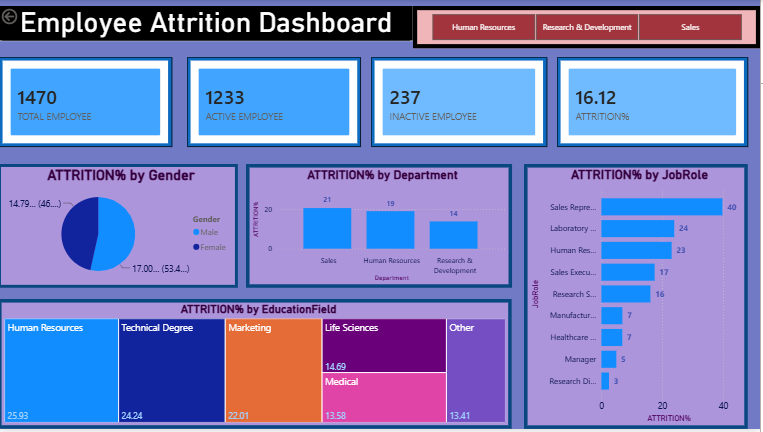

What the dashboard file says about the page in this screenshot:
{"tool":"powerbi","page":{"name":"ATTRITION","canvas":[1280,720],"ordinal":1},"visuals":[{"type":"textbox","title":"Employee Attrition Dashboard","box":[1.7,10.1,695.4,58.8],"z":0},{"type":"cardVisual","fields":{"Data":["WA_Fn-UseC_-HR-Employee-Attrition.TOTAL EMPLOYEE"]},"box":[1.7,95.7,290.6,151.2],"z":1000},{"type":"cardVisual","fields":{"Data":["WA_Fn-UseC_-HR-Employee-Attrition.ACTIVE EMPLOYEE"]},"box":[317.5,95.7,292.3,151.2],"z":2000},{"type":"cardVisual","fields":{"Data":["WA_Fn-UseC_-HR-Employee-Attrition.INACTIVE EMPLOYEE"]},"box":[626.6,95.7,295.6,151.2],"z":3000},{"type":"cardVisual","fields":{"Data":["WA_Fn-UseC_-HR-Employee-Attrition.ATTRITION%"]},"box":[939,95.7,320.8,151.2],"z":4000},{"type":"pieChart","fields":{"Category":["WA_Fn-UseC_-HR-Employee-Attrition.Gender"],"Y":["WA_Fn-UseC_-HR-Employee-Attrition.ATTRITION%"]},"box":[0,275.5,403.1,208.3],"z":5000},{"type":"columnChart","fields":{"Category":["WA_Fn-UseC_-HR-Employee-Attrition.Department"],"Y":["WA_Fn-UseC_-HR-Employee-Attrition.ATTRITION%"]},"box":[416.6,275.5,446.8,208.3],"z":6000},{"type":"barChart","fields":{"Y":["WA_Fn-UseC_-HR-Employee-Attrition.ATTRITION%"],"Category":["WA_Fn-UseC_-HR-Employee-Attrition.JobRole"]},"box":[883.6,275.5,376.3,445.1],"z":7000},{"type":"treemap","fields":{"Group":["WA_Fn-UseC_-HR-Employee-Attrition.EducationField"],"Values":["WA_Fn-UseC_-HR-Employee-Attrition.ATTRITION%"]},"box":[0,502.3,863.4,218.4],"z":8000},{"type":"slicer","fields":{"Values":["WA_Fn-UseC_-HR-Employee-Attrition.Department"]},"box":[697.1,10.1,582.9,70.6],"z":9000},{"type":"actionButton","box":[1.7,10.1,35.3,35.3],"z":10000}]}

Visuals, with their boxes in screenshot pixels (x1, y1, x2, y2), scaled from the page's 1280x720 canvas onto the 763x432 screenshot:
"Employee Attrition Dashboard" textbox: <box>1,6,416,41</box>
cardVisual - WA_Fn-UseC_-HR-Employee-Attrition.TOTAL EMPLOYEE: <box>1,57,174,148</box>
cardVisual - WA_Fn-UseC_-HR-Employee-Attrition.ACTIVE EMPLOYEE: <box>189,57,363,148</box>
cardVisual - WA_Fn-UseC_-HR-Employee-Attrition.INACTIVE EMPLOYEE: <box>374,57,550,148</box>
cardVisual - WA_Fn-UseC_-HR-Employee-Attrition.ATTRITION%: <box>560,57,751,148</box>
pieChart - WA_Fn-UseC_-HR-Employee-Attrition.Gender x WA_Fn-UseC_-HR-Employee-Attrition.ATTRITION%: <box>0,165,240,290</box>
columnChart - WA_Fn-UseC_-HR-Employee-Attrition.Department x WA_Fn-UseC_-HR-Employee-Attrition.ATTRITION%: <box>248,165,515,290</box>
barChart - WA_Fn-UseC_-HR-Employee-Attrition.ATTRITION% x WA_Fn-UseC_-HR-Employee-Attrition.JobRole: <box>527,165,751,431</box>
treemap - WA_Fn-UseC_-HR-Employee-Attrition.EducationField x WA_Fn-UseC_-HR-Employee-Attrition.ATTRITION%: <box>0,301,515,431</box>
slicer - WA_Fn-UseC_-HR-Employee-Attrition.Department: <box>416,6,762,48</box>
actionButton: <box>1,6,22,27</box>
